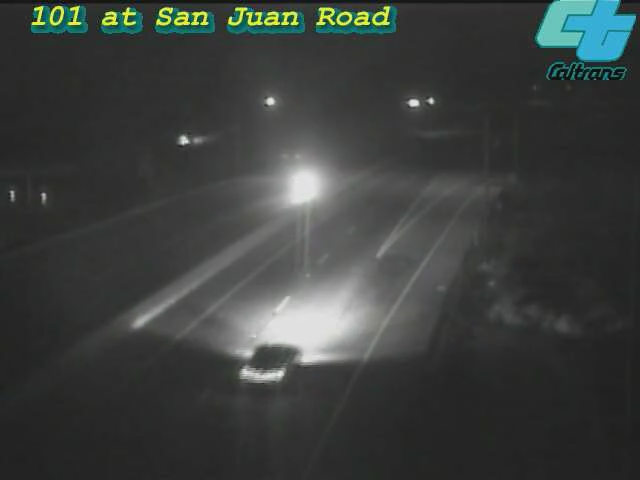vehicle: (212, 311, 322, 421), (264, 140, 344, 220)
